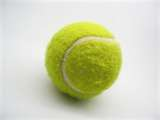tennis ball: (43, 20, 123, 104)
